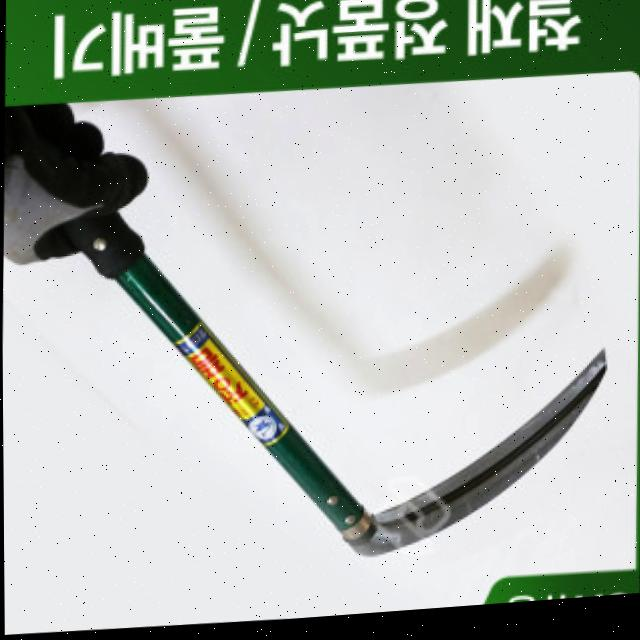sickle: (1, 96, 613, 607)
